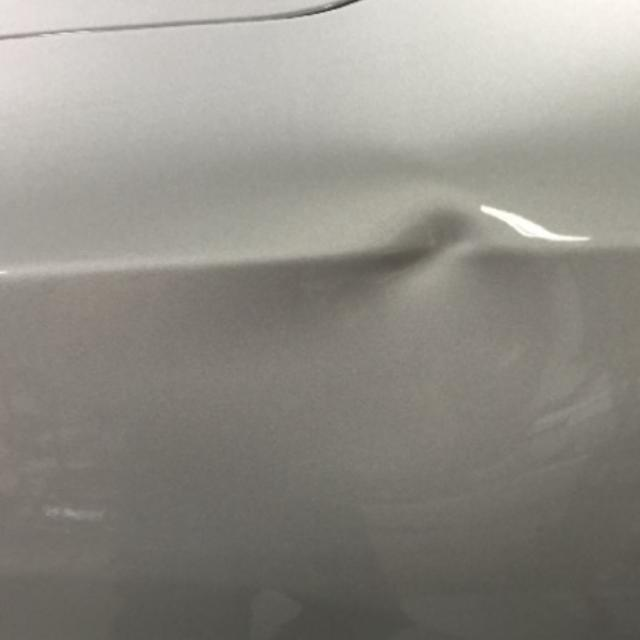dents: (372, 175, 496, 327)
